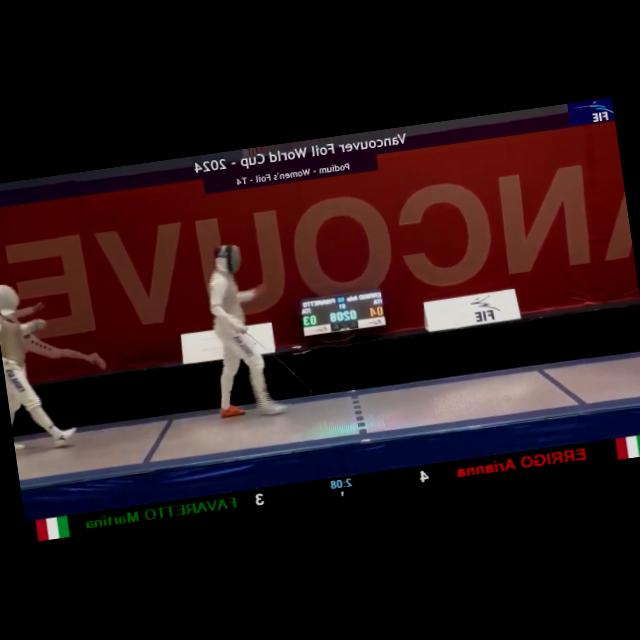blade: (236, 317, 314, 404)
